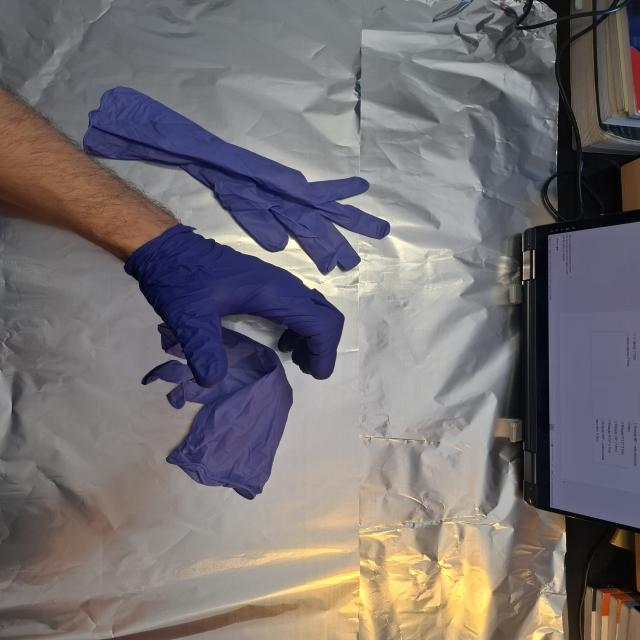glove_on: (130, 228, 349, 390)
